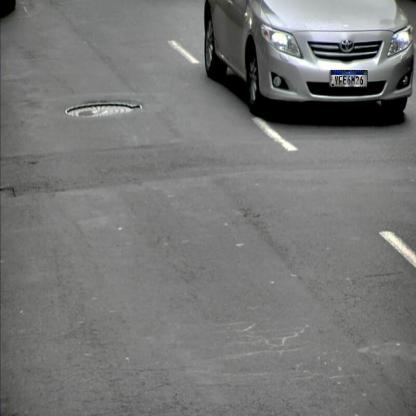PlacaM: (330, 70, 368, 87)
